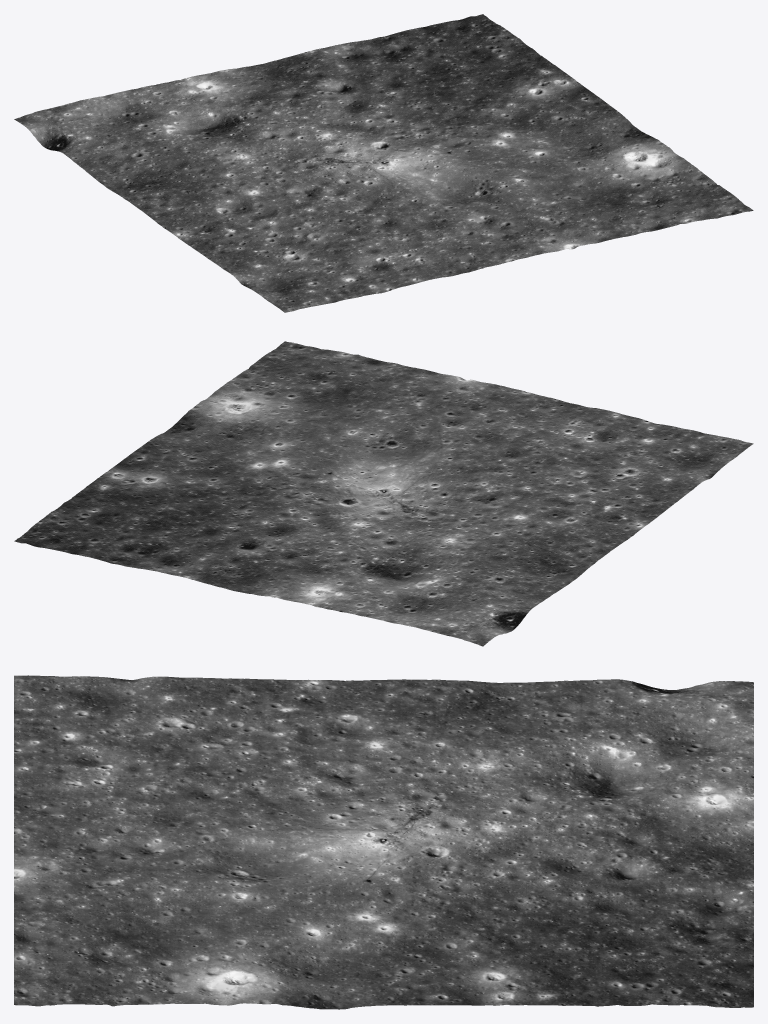
The model's file is close-high.glb.
3 renders of one model, top to bottom at view 1: azimuth 30°, elevation 25°; view 2: azimuth 150°, elevation 25°; view 3: azimuth 270°, elevation 25°, orthographic. The views are drawn at different scales.
Visible parts, largest first — view 1: close; view 2: close; view 3: close.
Boxes of the visible parts, bbox=[...] form: close: bbox=[14, 14, 753, 312]; close: bbox=[14, 341, 753, 646]; close: bbox=[14, 675, 753, 1009].
Size of the model in its own units: 1015 by 34.94 by 1015.
Materials: 1 (1 with a texture image).
